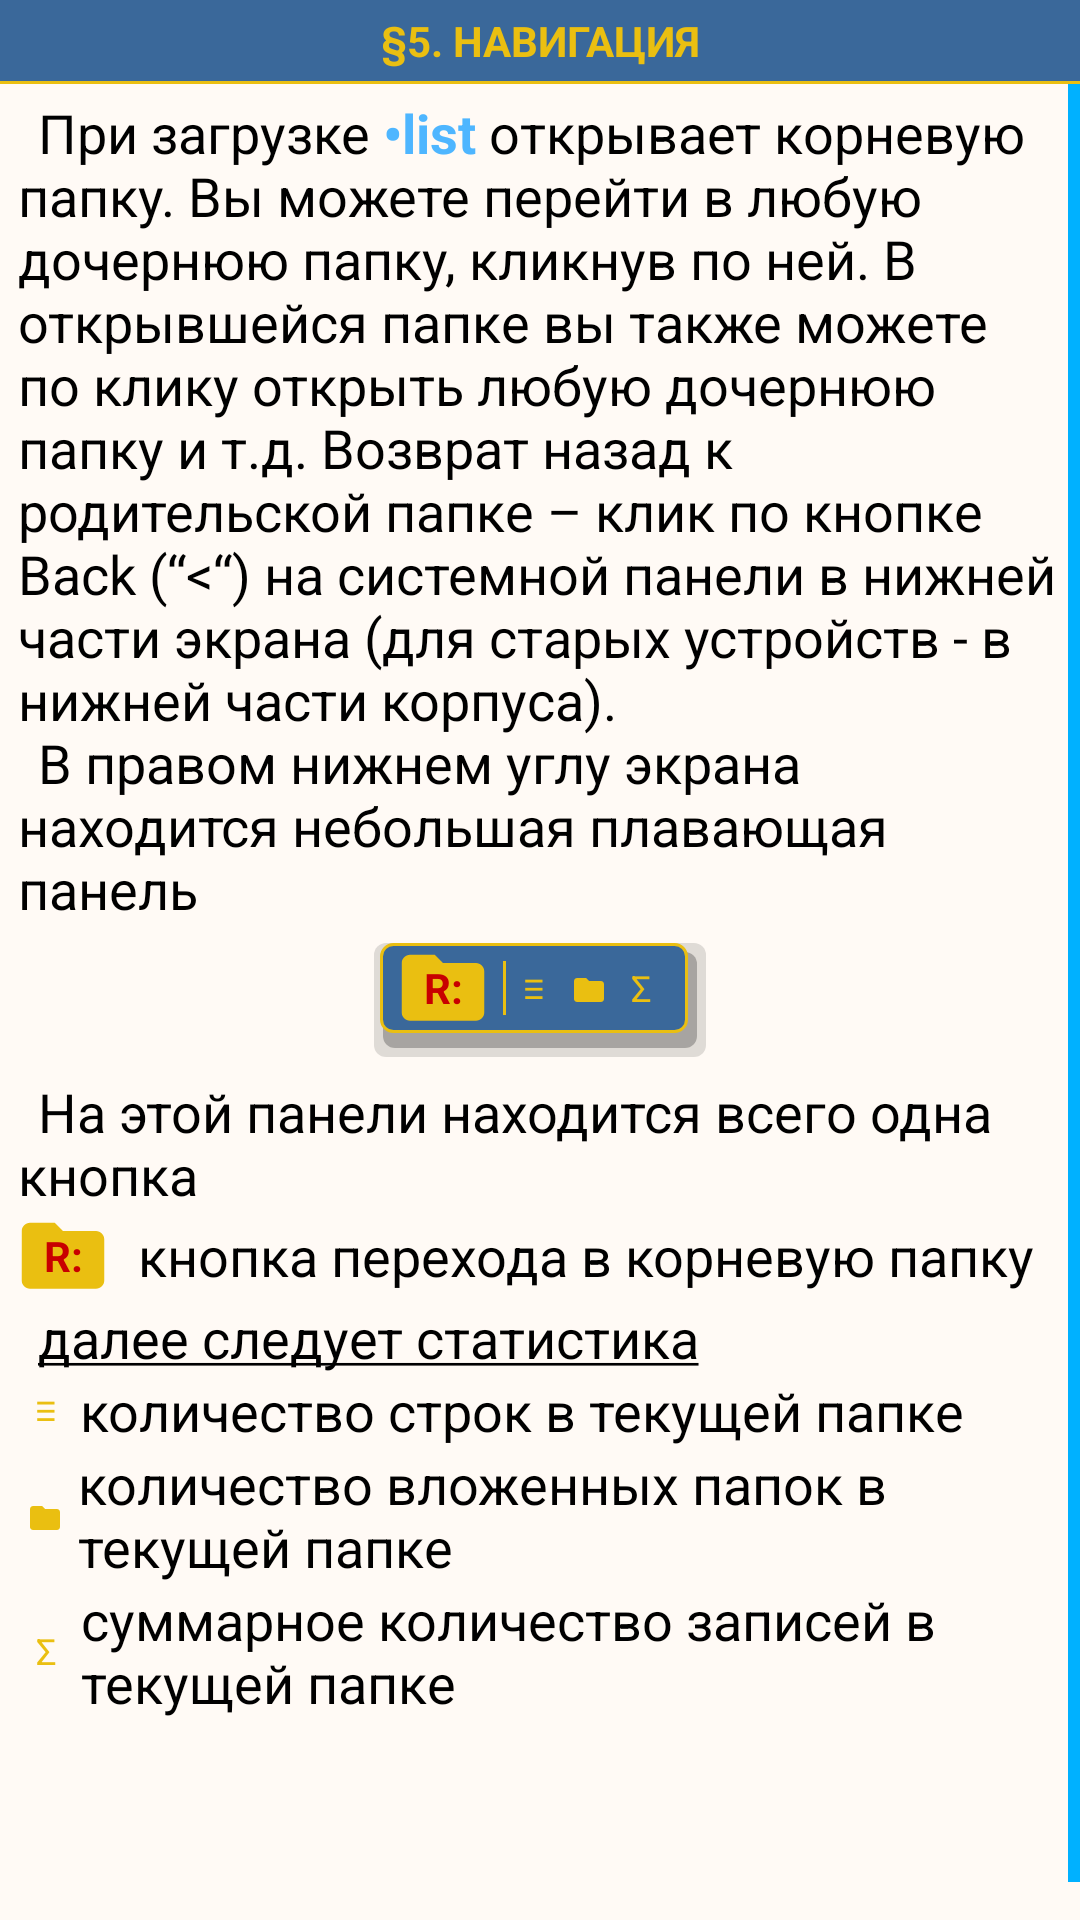

Icons on this 1080 x 1920 Android screen, each with its box as [x1=x1, y1=y1, x2=x2, y2=y2]:
count dir: [x1=30, y1=1506, x2=60, y2=1530]
